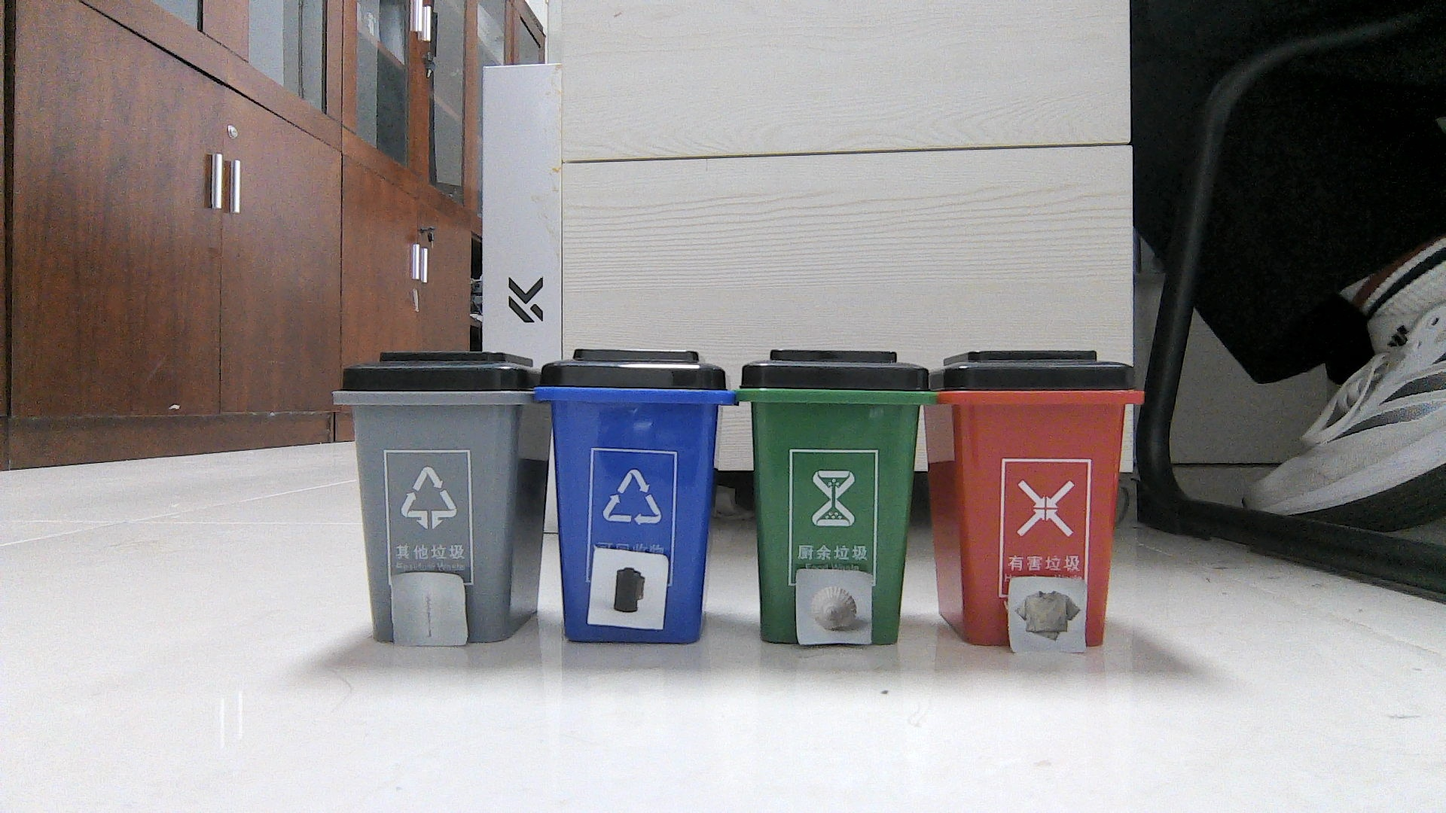hazardous_trash: (597, 553, 659, 624), (396, 576, 460, 643)
other_trash: (799, 572, 869, 640)
recyclable_trash: (1011, 579, 1082, 648)
